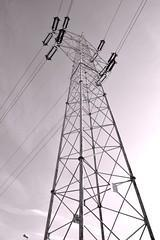power_tower: (46, 16, 157, 240)
